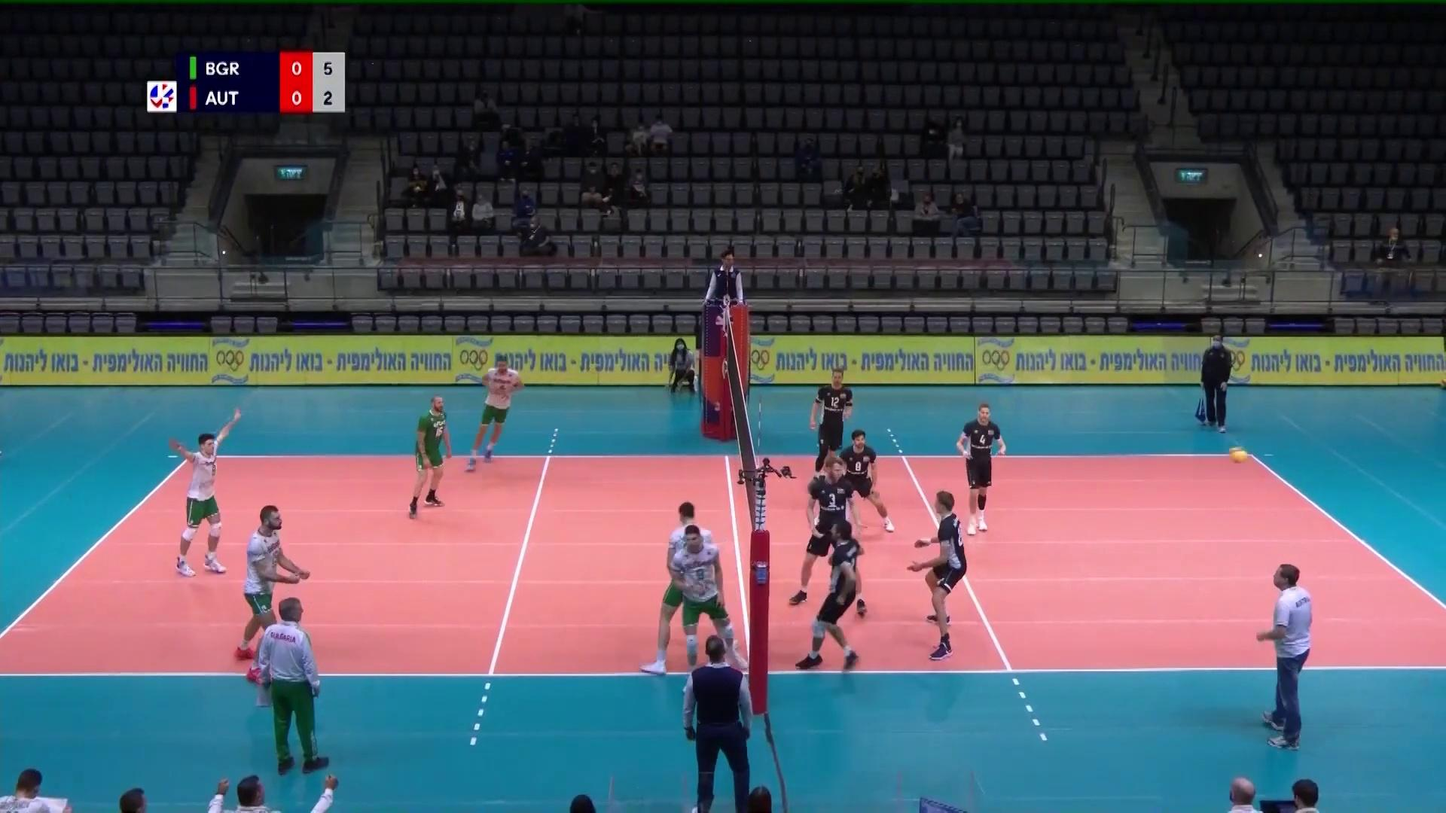ball: (1231, 446, 1248, 464)
